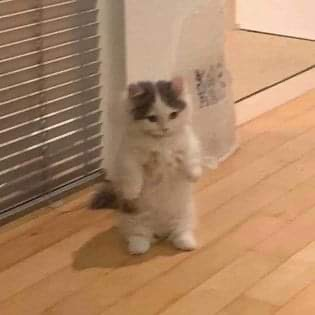cat: (115, 79, 199, 256)
